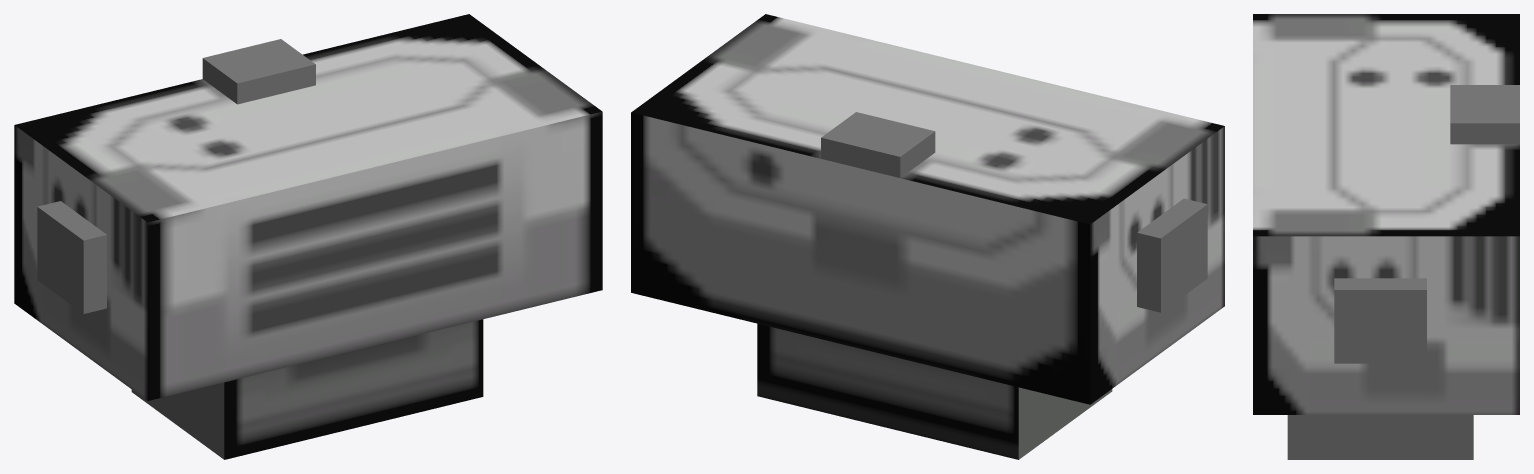
File: Building_SleepAccelerator.obj
The picture shows the model from 3 angles, left to right: view 1: azimuth 30°, elevation 25°; view 2: azimuth 150°, elevation 25°; view 3: azimuth 270°, elevation 25°; orthographic projection.
Visible parts, largest first — view 1: Body; view 2: Body; view 3: Body.
Part boxes in pixels (x1,y1,x2,y2): Body: [14, 14, 602, 459]; Body: [631, 14, 1224, 459]; Body: [1253, 14, 1519, 459].
Bounding box in the file's own units: 1 × 0.56 × 0.46.
Materials: 1 (1 with a texture image).
